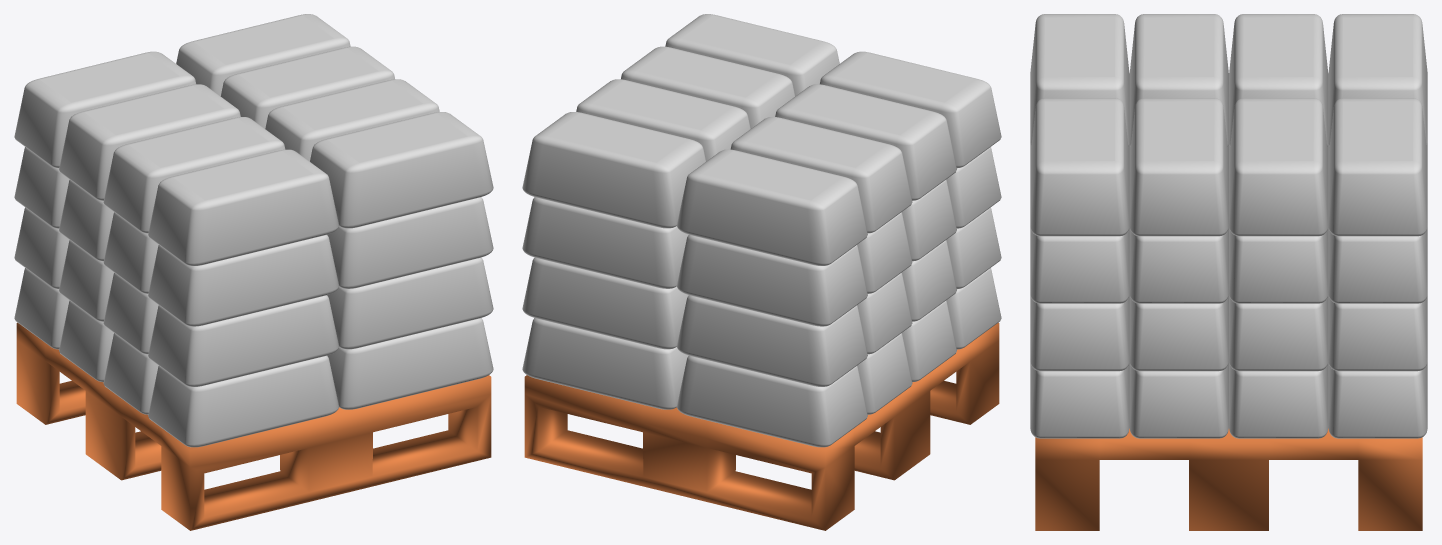
The model's file is cube_silver.glb.
3 views of the same model, side by side, from view 1: azimuth 30°, elevation 25°; view 2: azimuth 150°, elevation 25°; view 3: azimuth 270°, elevation 25° (orthographic). The views are drawn at different scales.
Visible parts, largest first — view 1: cube_silver; view 2: cube_silver; view 3: cube_silver.
Part boxes in pixels (x1=…): cube_silver: x1=14, y1=14, x2=493, y2=530; cube_silver: x1=522, y1=14, x2=1001, y2=530; cube_silver: x1=1030, y1=14, x2=1427, y2=530.
Size of the model in its own units: 2 by 2 by 2.
